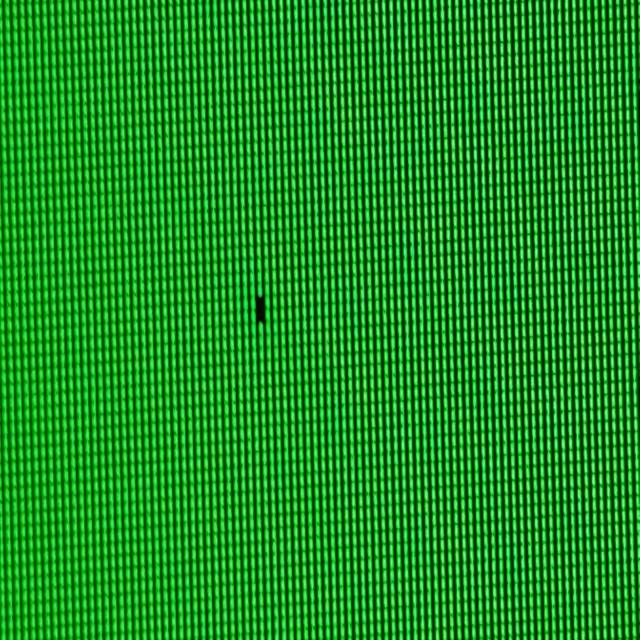Dead pixel: (255, 294, 266, 326)
